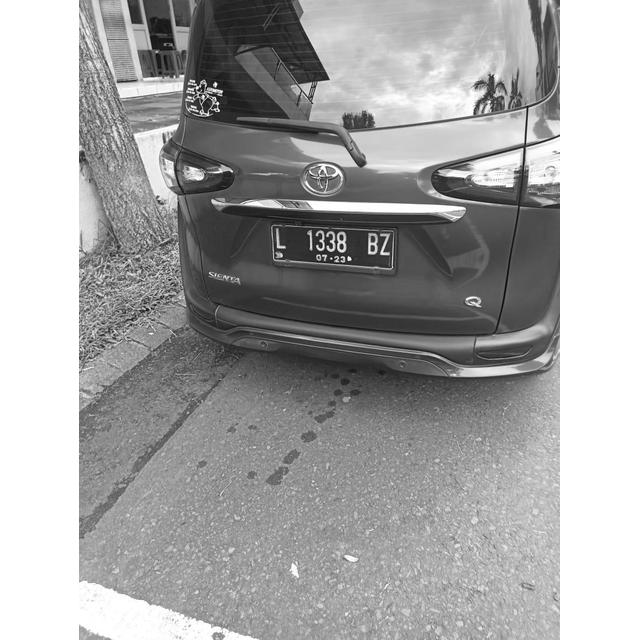license: (274, 226, 391, 265)
